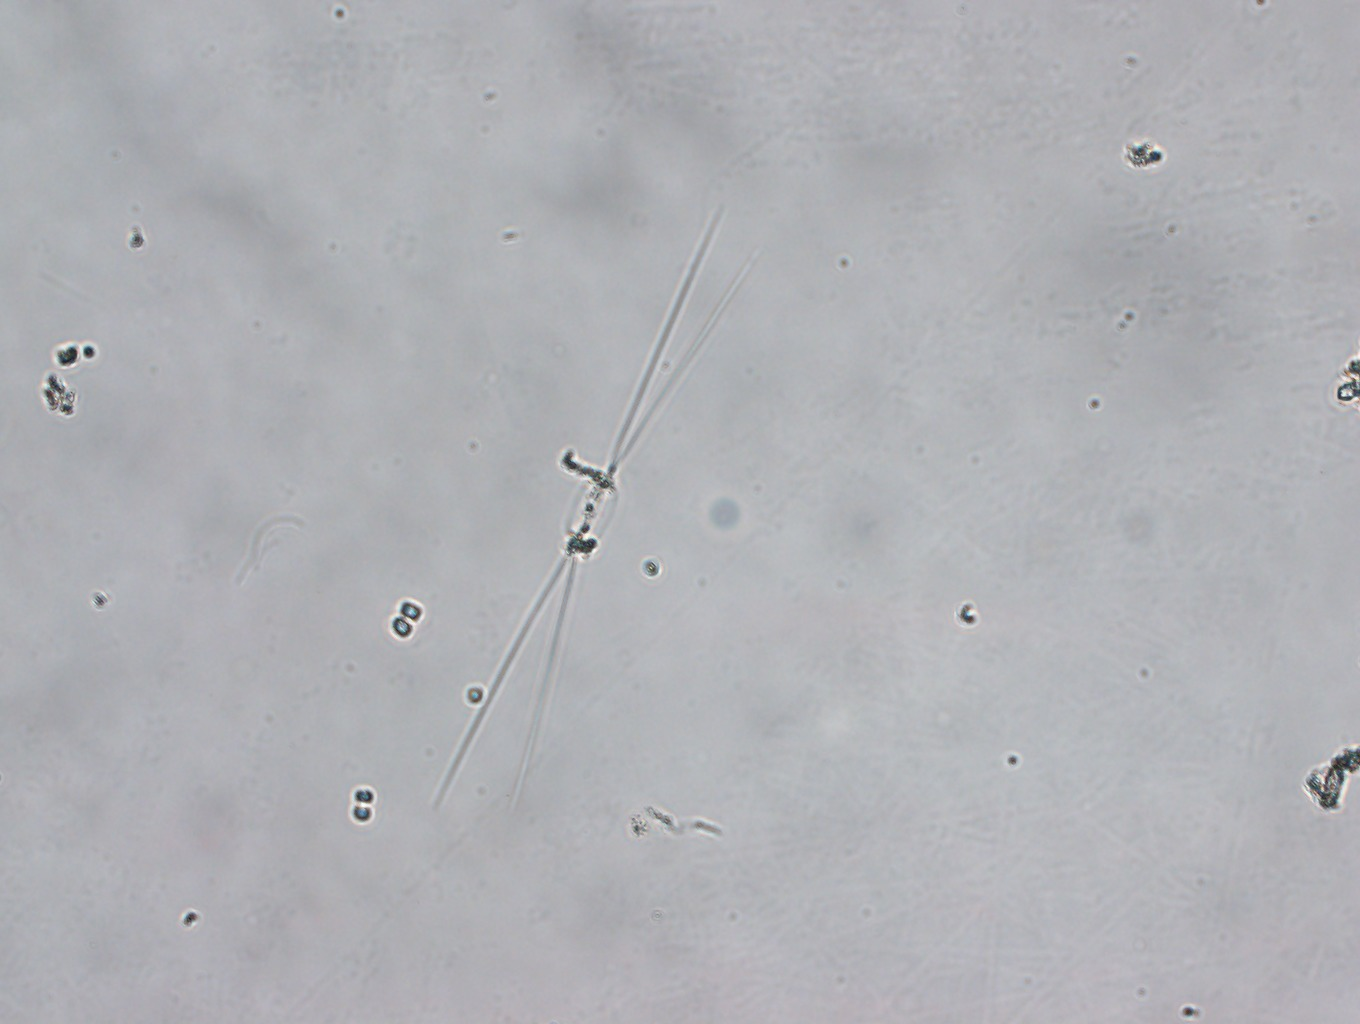chaetoceros: (429, 200, 759, 831)
